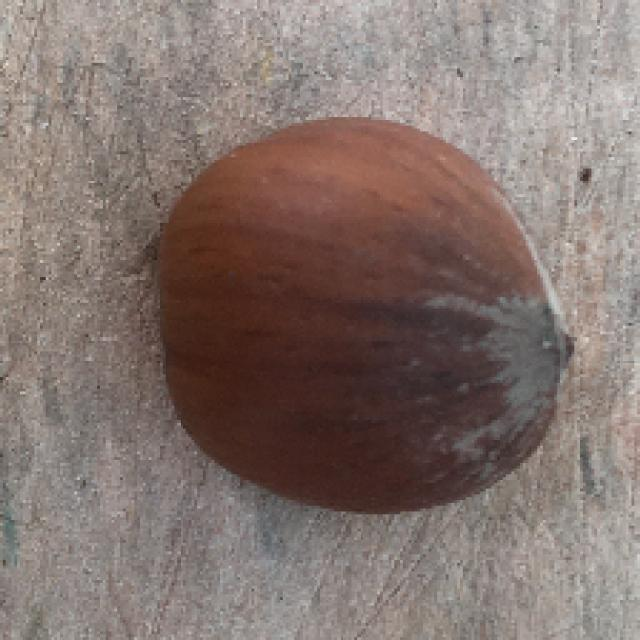damagedHazelnut: (146, 113, 584, 517)
